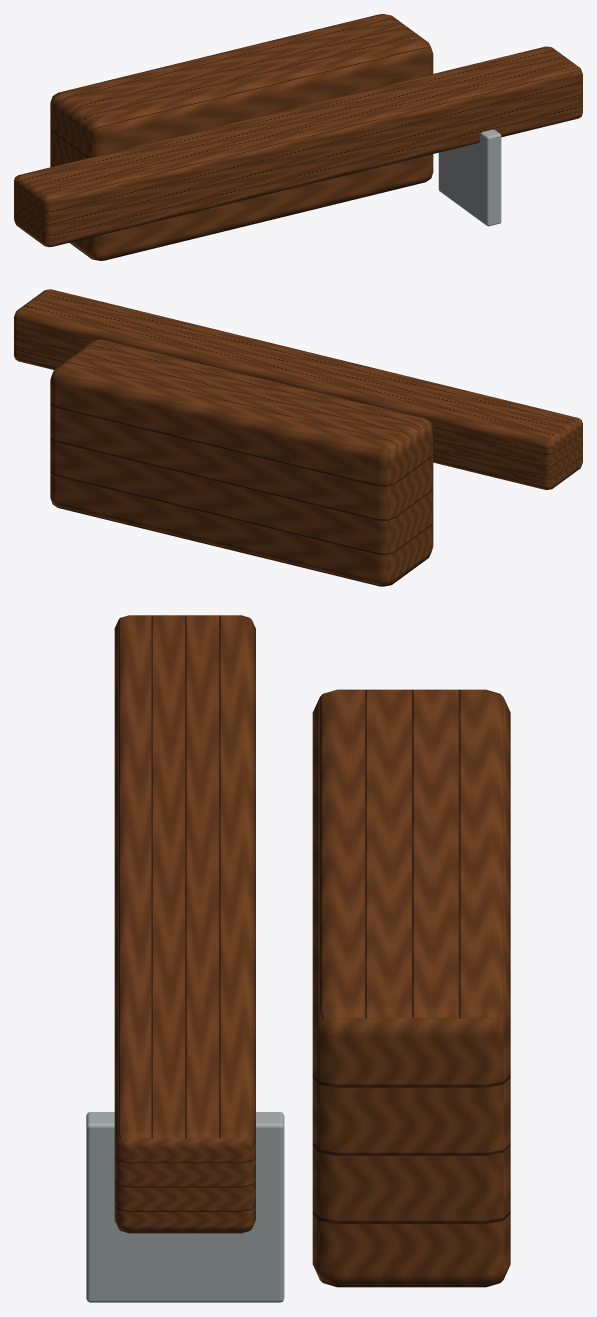
Rendered from primitive-crafting-workshop-strap-cutter-f2906fa2__21563.glb.
3 renders of one model, top to bottom at view 1: azimuth 30°, elevation 25°; view 2: azimuth 150°, elevation 25°; view 3: azimuth 270°, elevation 25°, orthographic. The views are drawn at different scales.
Visible parts, largest first — view 1: strap-cutter; view 2: strap-cutter; view 3: strap-cutter.
Part boxes in pixels (x1,y1,x2,y2): strap-cutter: (14, 14, 582, 260); strap-cutter: (14, 289, 582, 586); strap-cutter: (86, 615, 510, 1302).
Bounding box in the file's own units: 0.22 × 0.055 × 0.075.
Materials: 2 (1 with a texture image).
